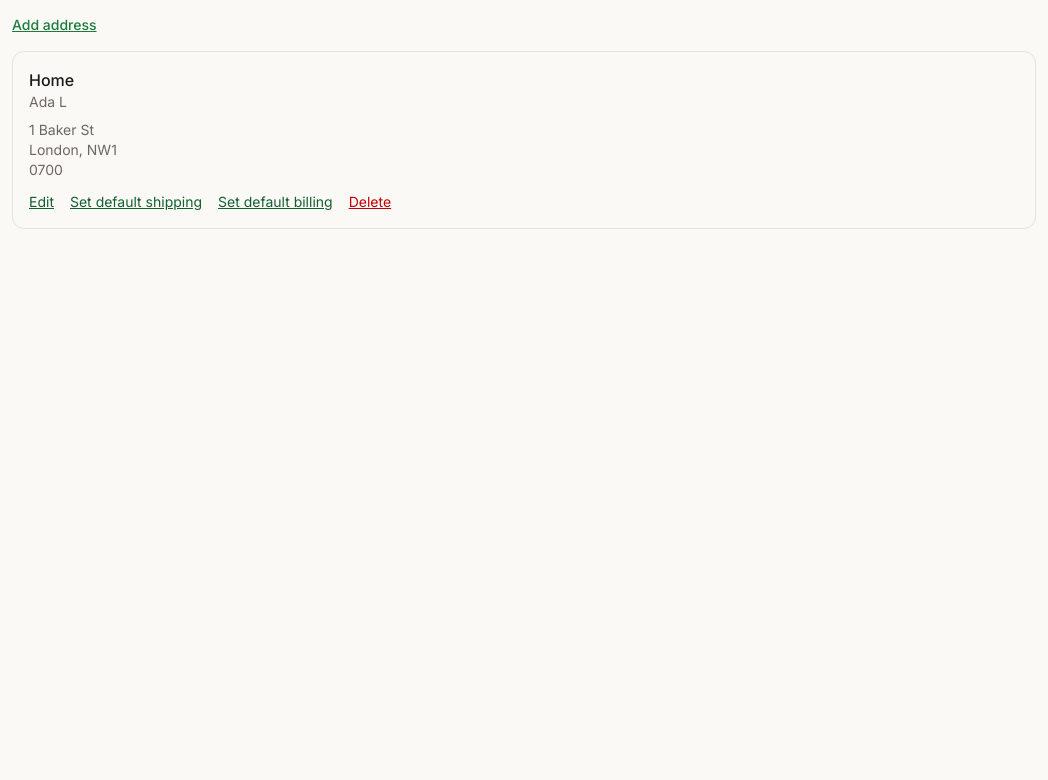
Test: AddressBook › opens the AddressForm in edit mode prefilled, and Add address opens it empty
Click the button "Edit" at (42, 202), box x1=29 y1=192 x2=54 y2=212
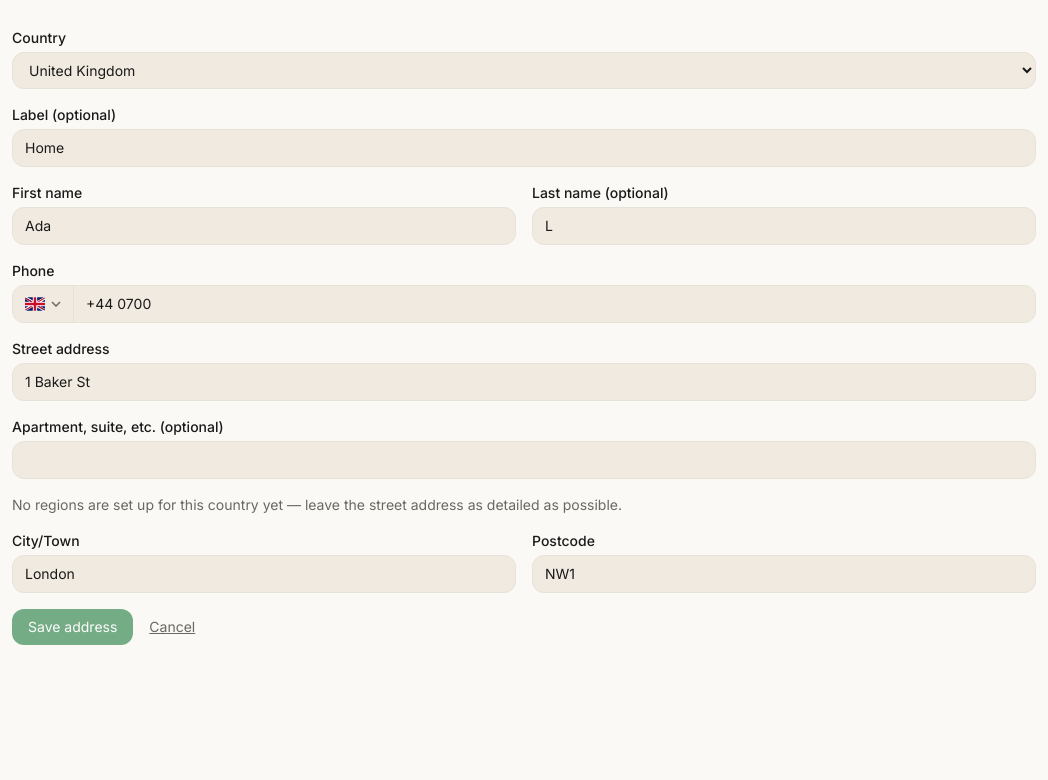
Check: the field labelled "Street address" holds "1 Baker St", box x1=12 y1=363 x2=1036 y2=401
